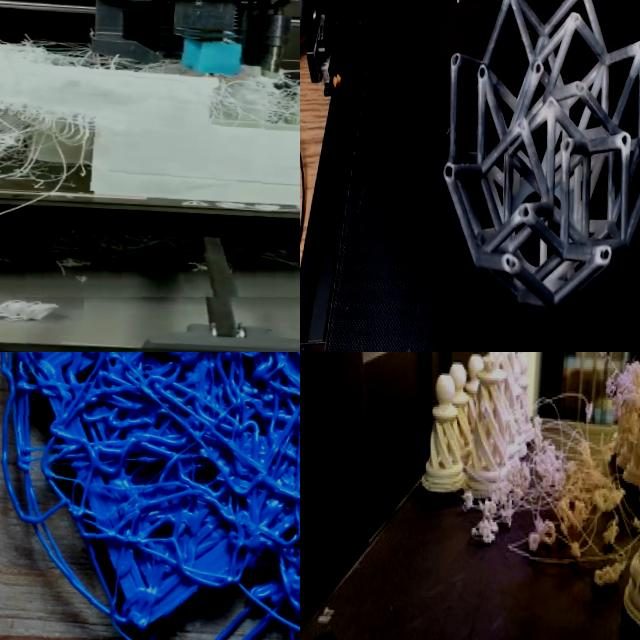spaghetti: (0, 352, 300, 640), (0, 8, 300, 213), (9, 226, 300, 322), (508, 414, 618, 570), (0, 285, 84, 336), (467, 522, 498, 554), (474, 488, 496, 516), (458, 490, 479, 512), (500, 502, 516, 530)
